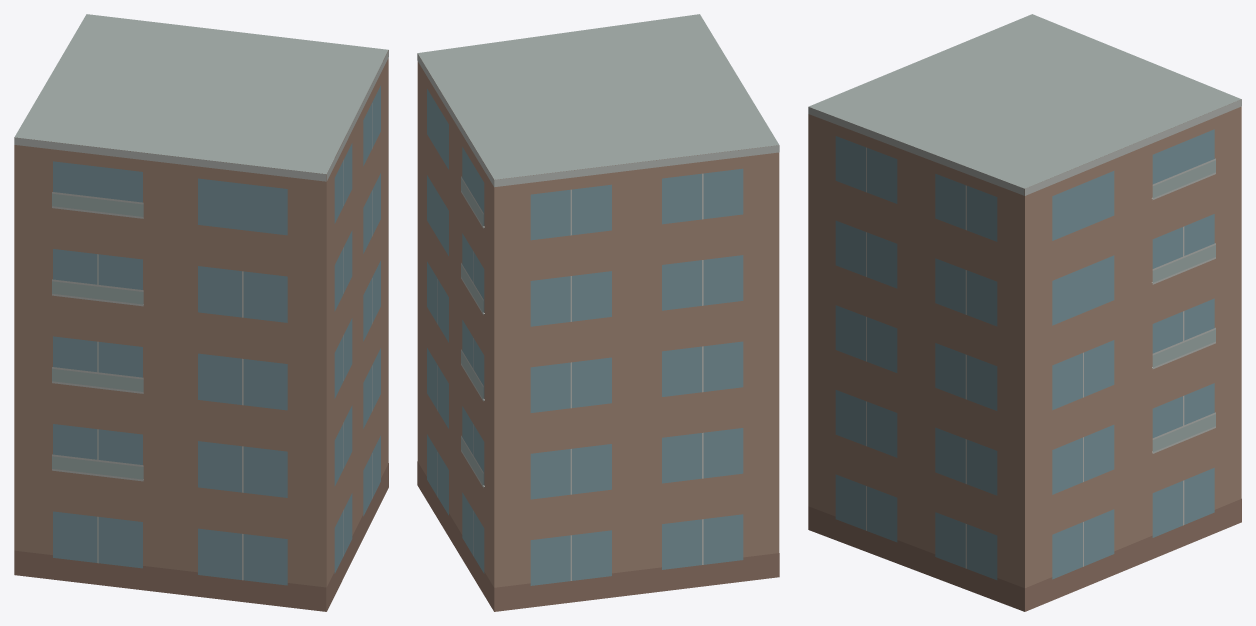
Rendered from survey-upis-32638999.glb.
3 views of the same model, side by side, from view 1: azimuth 30°, elevation 25°; view 2: azimuth 150°, elevation 25°; view 3: azimuth 270°, elevation 25° (orthographic). The views are drawn at different scales.
Visible parts, largest first — view 1: survey-upis-32638999.tmp; view 2: survey-upis-32638999.tmp; view 3: survey-upis-32638999.tmp.
Boxes of the visible parts, x1=… form: survey-upis-32638999.tmp: x1=14, y1=14, x2=388, y2=611; survey-upis-32638999.tmp: x1=417, y1=14, x2=779, y2=611; survey-upis-32638999.tmp: x1=808, y1=14, x2=1241, y2=611.
Size of the model in its own units: 12.68 by 14.3 by 13.28.
